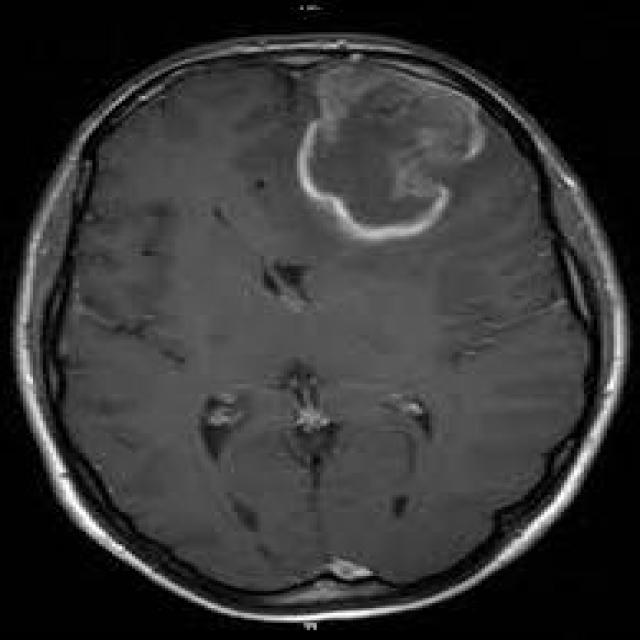Tumor-Cell: (272, 33, 516, 294)
